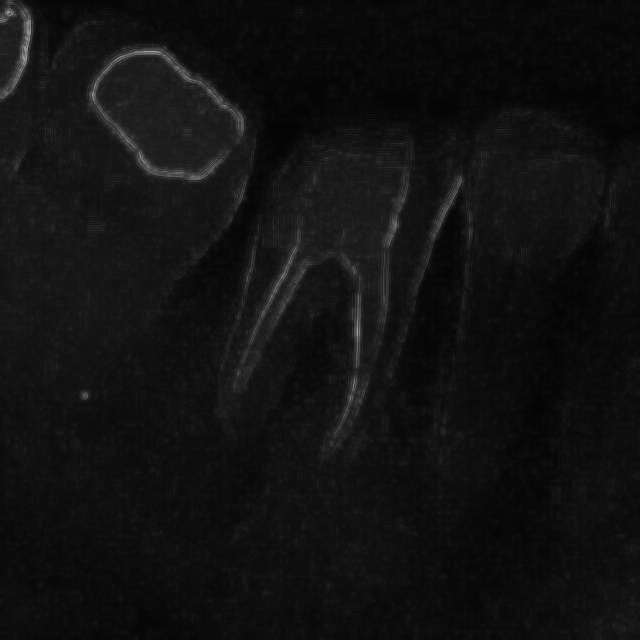Class 0- No endodontic treatment: (195, 34, 469, 513)
